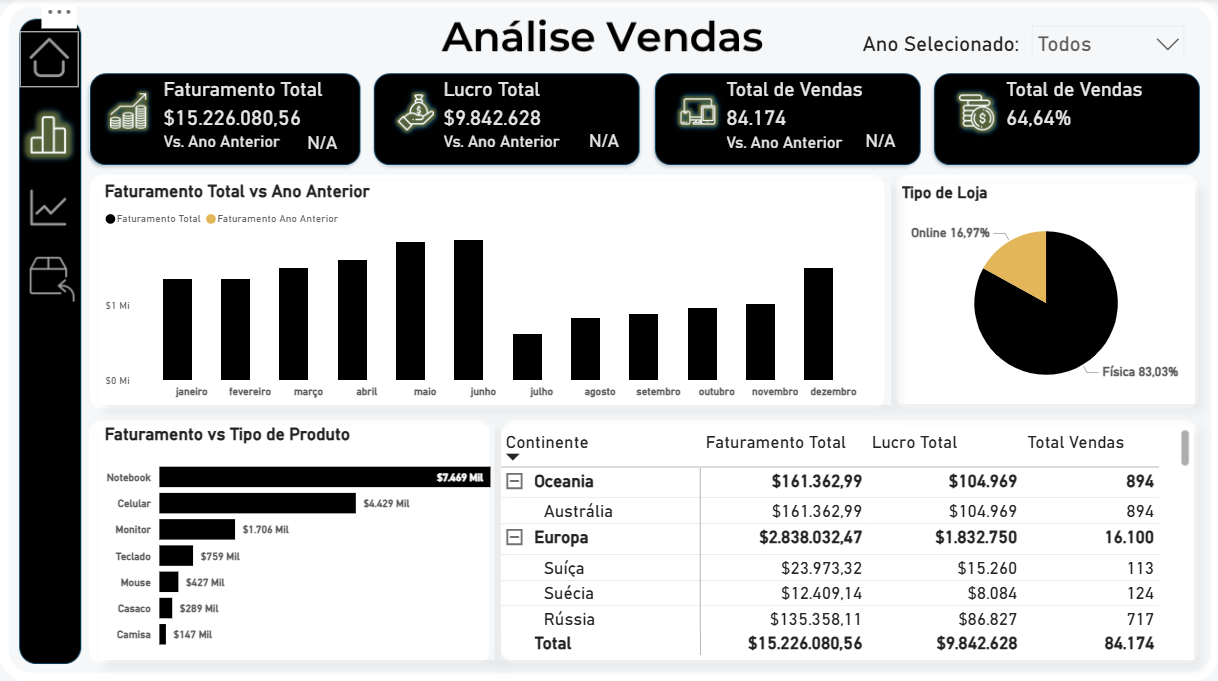

This screenshot's page, from the dashboard's own definition file:
{"tool":"powerbi","page":{"name":"Geral","canvas":[1280,720],"ordinal":1},"visuals":[{"type":"multiRowCard","title":"Faturamento Total","fields":{"Values":["Medidas.Faturamento Total"]},"box":[168.9,84.5,279.8,65.1],"z":0},{"type":"multiRowCard","title":"Lucro Total","fields":{"Values":["Medidas.Lucro Total"]},"box":[461.2,83.4,279.8,65.1],"z":1000},{"type":"multiRowCard","title":"Total de Vendas","fields":{"Values":["Medidas.Total Vendas"]},"box":[758.5,84.5,279.8,65.1],"z":2000},{"type":"multiRowCard","title":"Total de Vendas","fields":{"Values":["Medidas.% Margem de Lucro"]},"box":[1050.5,84.5,197.1,65.1],"z":3000},{"type":"slicer","fields":{"Values":["dCalendario.Ano"]},"box":[1073.4,19.4,179.5,42.2],"z":4000},{"type":"textbox","box":[900.9,29.9,197.1,45.7],"z":5000},{"type":"card","fields":{"Values":["Medidas.% Crescimento YoY"]},"box":[308.5,132.9,63.3,36.4],"z":6000},{"type":"textbox","box":[168.9,133.7,140.8,35.2],"z":7000},{"type":"textbox","box":[758.5,135.5,140.8,35.2],"z":8000},{"type":"textbox","box":[461.2,134.5,140.8,35.2],"z":9000},{"type":"card","fields":{"Values":["Medidas.% crescimento lucro YoY"]},"box":[600,130.2,70.4,38.7],"z":10000},{"type":"card","fields":{"Values":["Medidas.% Crescimento Vendas YoY"]},"box":[887.6,129.7,72.8,38],"z":11000},{"type":"clusteredColumnChart","title":"Faturamento Total vs Ano Anterior","fields":{"Y":["Medidas.Faturamento Total","Medidas.Faturamento Ano Anterior"],"Category":["dCalendario.Inicio do Mês.Variation.Hierarquia de datas.Mês"]},"box":[107.3,191.8,827,234],"z":12000},{"type":"pieChart","title":"Tipo de Loja","fields":{"Category":["dLojas.Tipo"],"Y":["Medidas.Total Vendas"]},"box":[941.4,193.6,311.4,232.3],"z":13000},{"type":"clusteredBarChart","title":"Faturamento vs Tipo de Produto","fields":{"Category":["dProdutos.Tipo do Produto"],"Y":["Medidas.Faturamento Total"]},"box":[107.3,446.9,413.5,246.3],"z":14000},{"type":"pivotTable","fields":{"Rows":["dLojas.Continente","dLojas.País"],"Values":["Medidas.Faturamento Total","Medidas.Lucro Total","Medidas.Total Vendas"]},"box":[522.6,446.9,730.2,246.3],"z":15000},{"type":"actionButton","box":[23.7,34.8,61.7,58.5],"z":16000},{"type":"actionButton","box":[23.7,189.9,61.7,58.5],"z":17000},{"type":"actionButton","box":[23.7,265.8,61.7,58.5],"z":18000}]}

Visuals, with their boxes on the page's 1280x720 design canvas (x1, y1, x2, y2). These are canvas units, not pixel positions in the 1218x681 screenshot, which may show the page scaled, cropped or inside an application window:
"Faturamento Total" multiRowCard: <region>169, 84, 449, 150</region>
"Lucro Total" multiRowCard: <region>461, 83, 741, 148</region>
"Total de Vendas" multiRowCard: <region>758, 84, 1038, 150</region>
"Total de Vendas" multiRowCard: <region>1050, 84, 1248, 150</region>
slicer - dCalendario.Ano: <region>1073, 19, 1253, 62</region>
textbox: <region>901, 30, 1098, 76</region>
card - Medidas.% Crescimento YoY: <region>308, 133, 372, 169</region>
textbox: <region>169, 134, 310, 169</region>
textbox: <region>758, 136, 899, 171</region>
textbox: <region>461, 134, 602, 170</region>
card - Medidas.% crescimento lucro YoY: <region>600, 130, 670, 169</region>
card - Medidas.% Crescimento Vendas YoY: <region>888, 130, 960, 168</region>
"Faturamento Total vs Ano Anterior" clusteredColumnChart: <region>107, 192, 934, 426</region>
"Tipo de Loja" pieChart: <region>941, 194, 1253, 426</region>
"Faturamento vs Tipo de Produto" clusteredBarChart: <region>107, 447, 521, 693</region>
pivotTable - dLojas.Continente x dLojas.País: <region>523, 447, 1253, 693</region>
actionButton: <region>24, 35, 85, 93</region>
actionButton: <region>24, 190, 85, 248</region>
actionButton: <region>24, 266, 85, 324</region>
